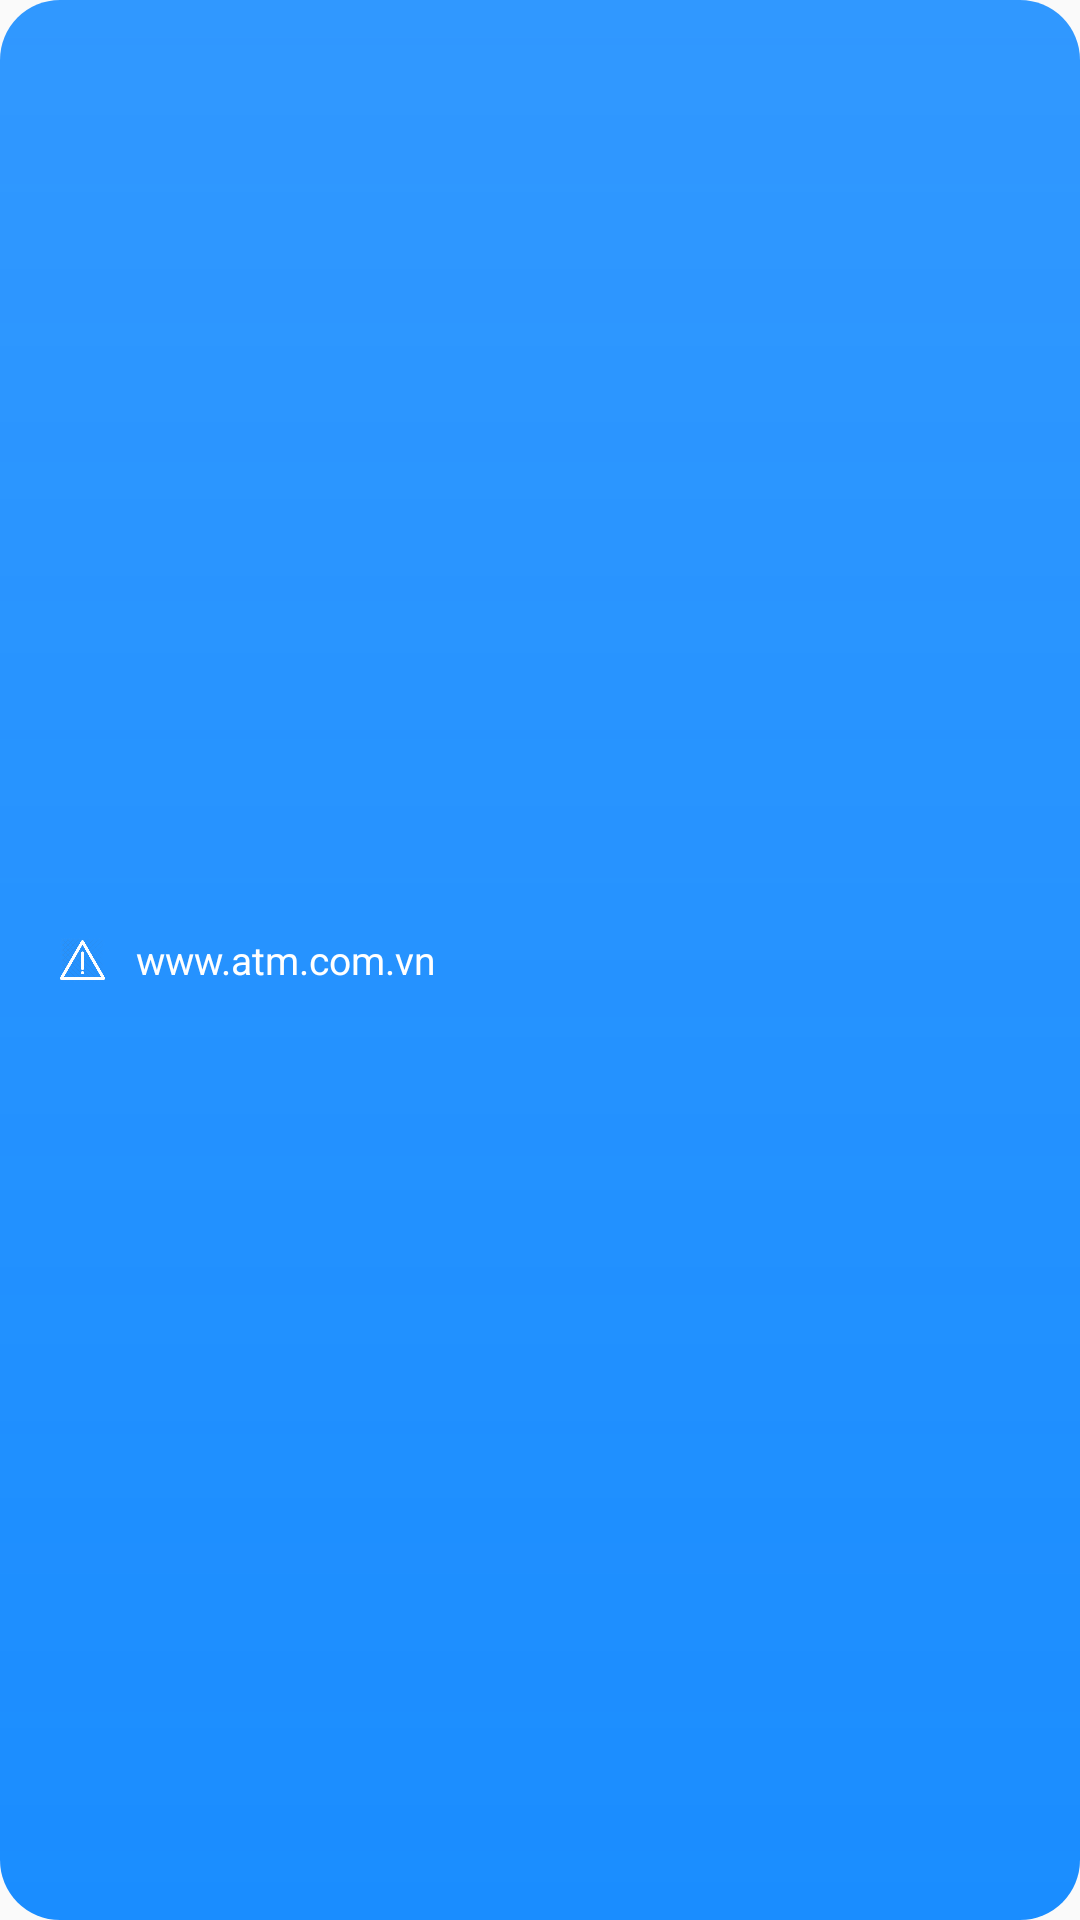

Icon click points for this 1080 × 1920 phone screenshot, format (x,y):
error: (82,960)
